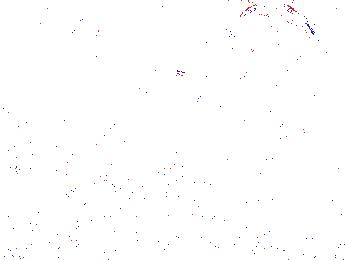moon jellyfish: (3, 118, 117, 186), (71, 1, 189, 65), (248, 39, 344, 116), (230, 1, 314, 53), (176, 10, 244, 64)
